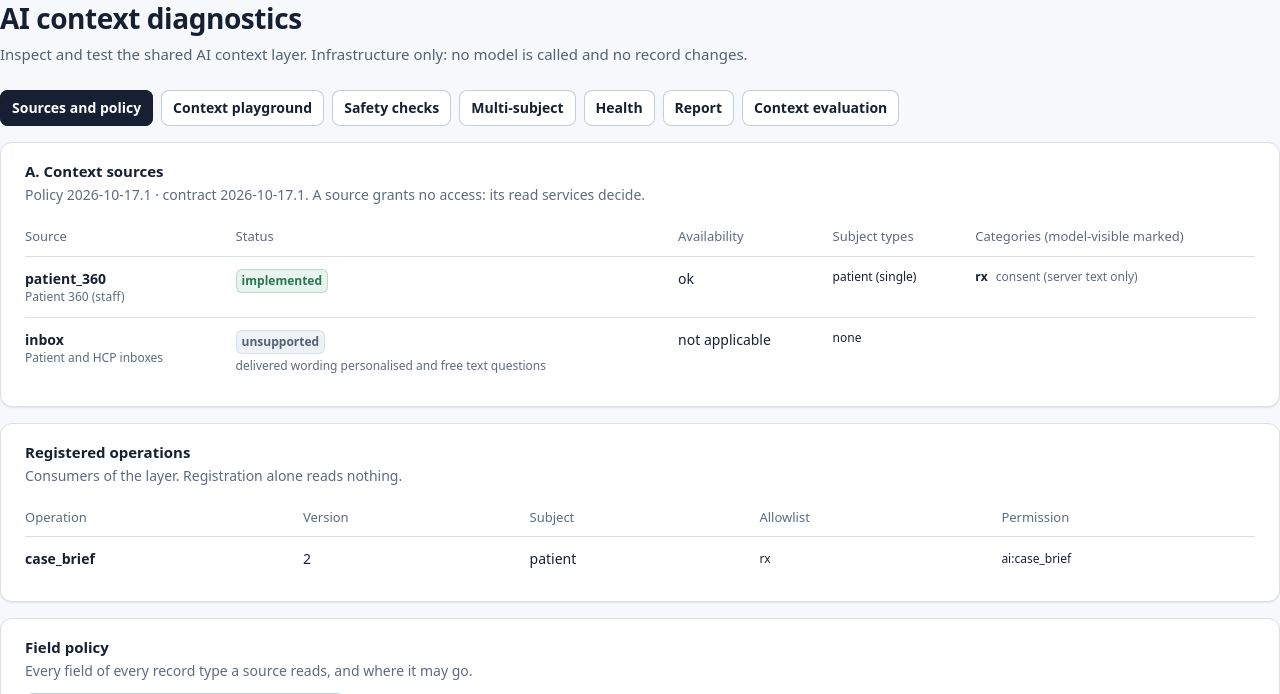
Scenario: AI context diagnostics › generates the sanitized report and offers it for download
Step 1. Click the tab "Report" → x=698, y=108, box x1=663 y1=90 x2=734 y2=126
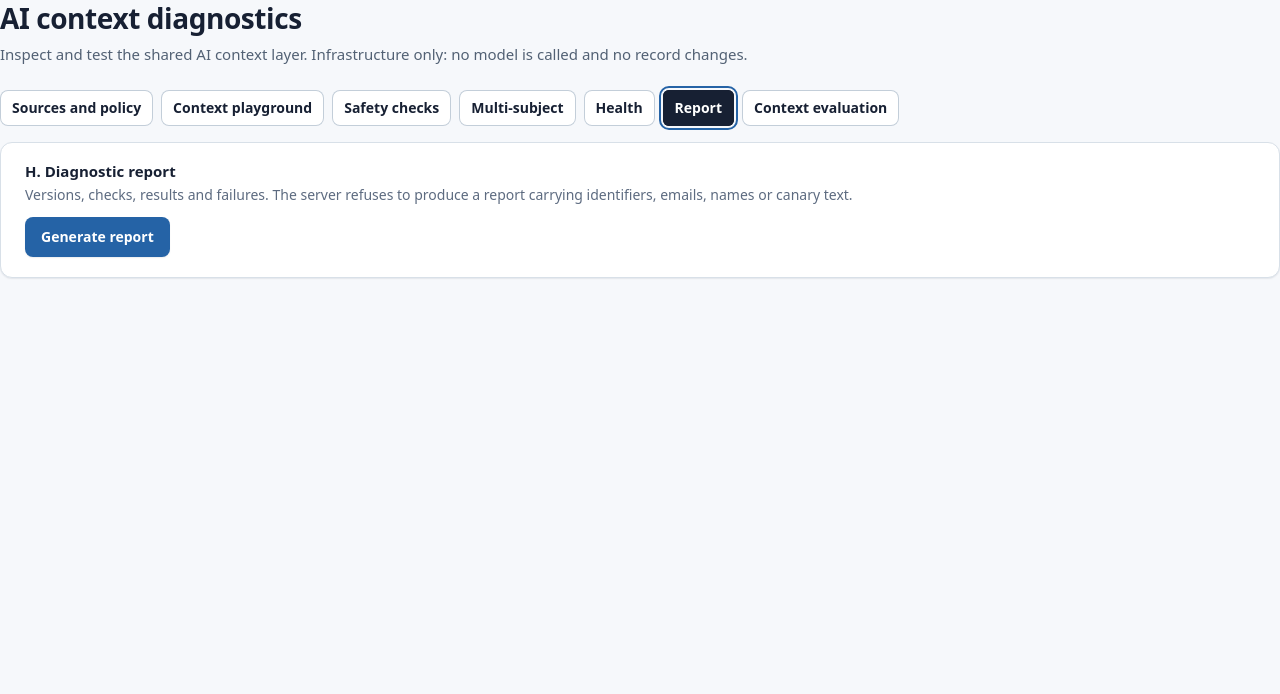
Step 2. Click the button "Generate report" → x=97, y=237, box x1=25 y1=217 x2=170 y2=257
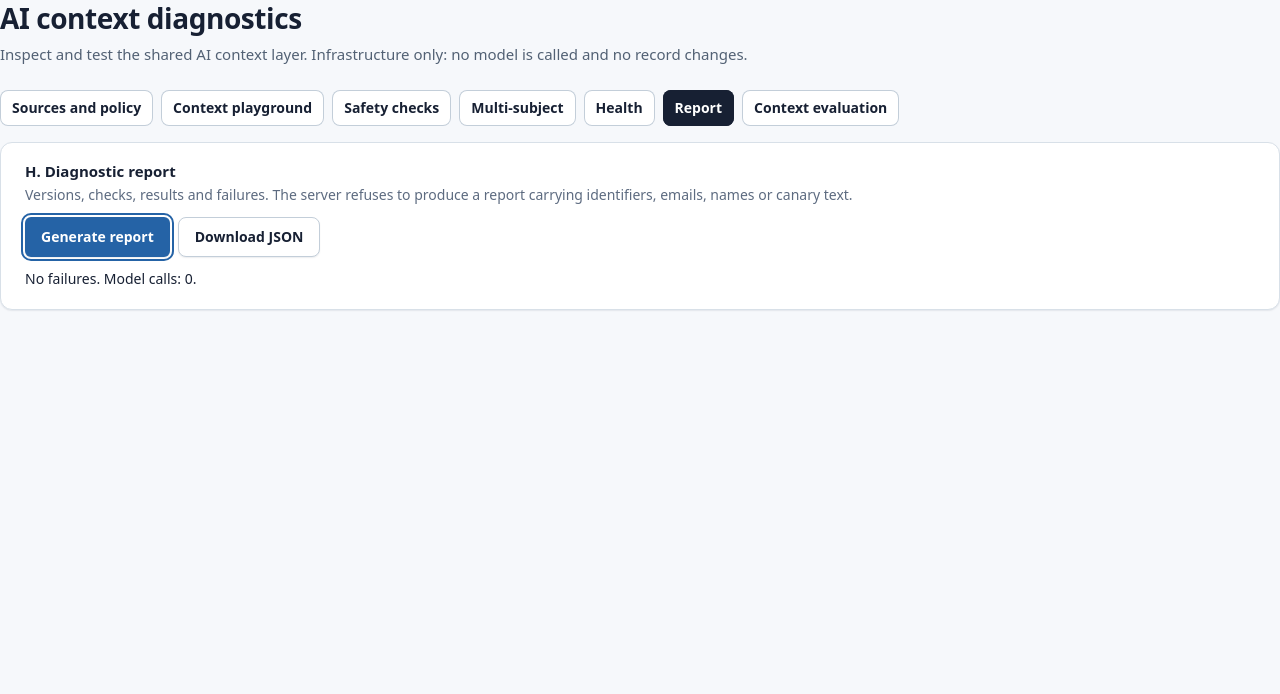
Check: the text "No failures. Model calls: 0." is shown, box x1=25 y1=269 x2=196 y2=288
Check: the button "Download JSON" is shown, box x1=178 y1=217 x2=320 y2=257
